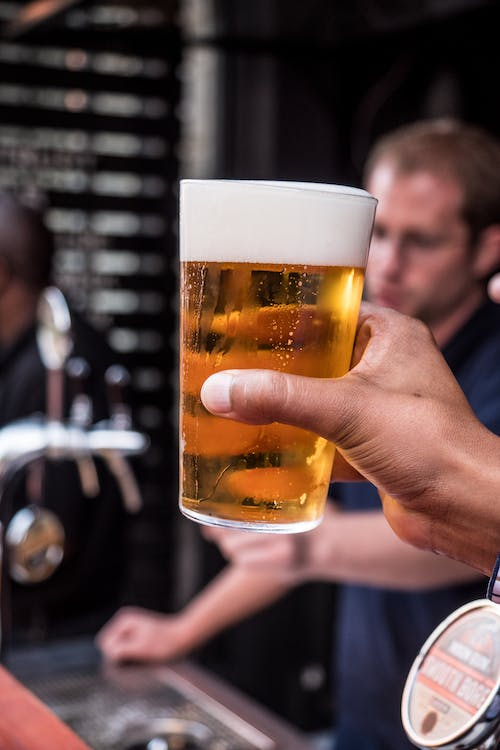alcohol: (173, 175, 381, 536)
